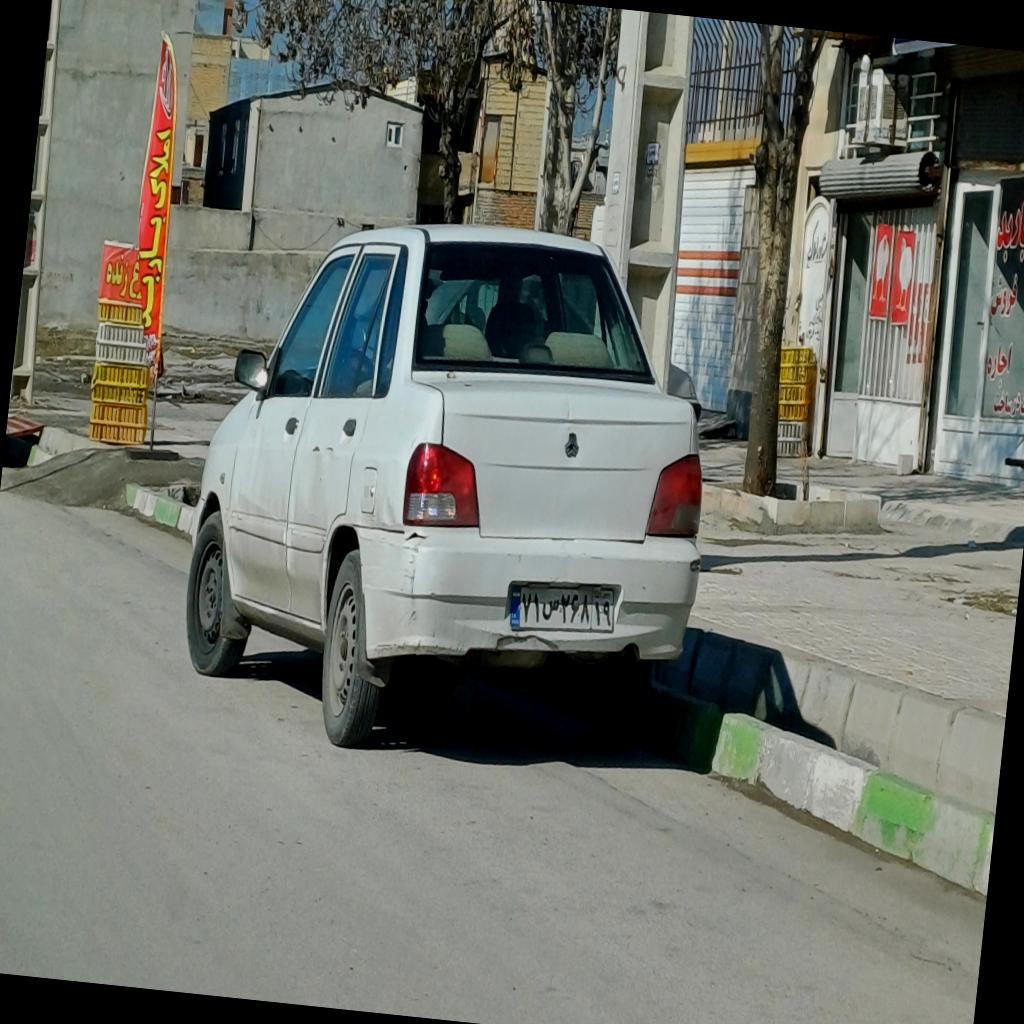Plates: (508, 578, 614, 638)
